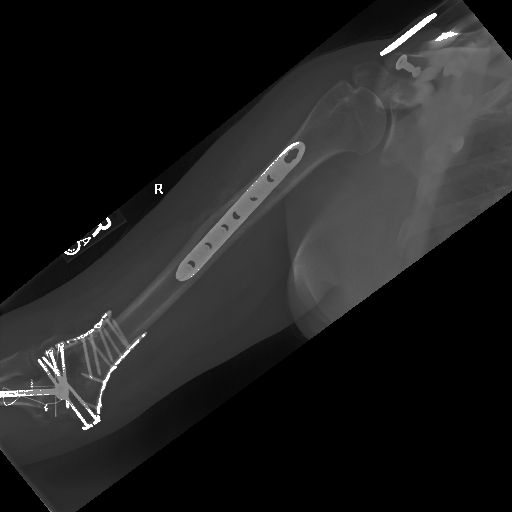implant: (174, 139, 314, 284), (35, 307, 150, 431), (391, 50, 429, 83)
